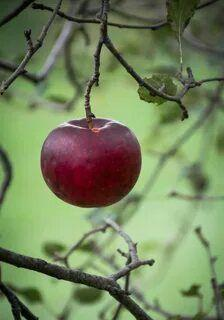Apple: (42, 118, 140, 208)
